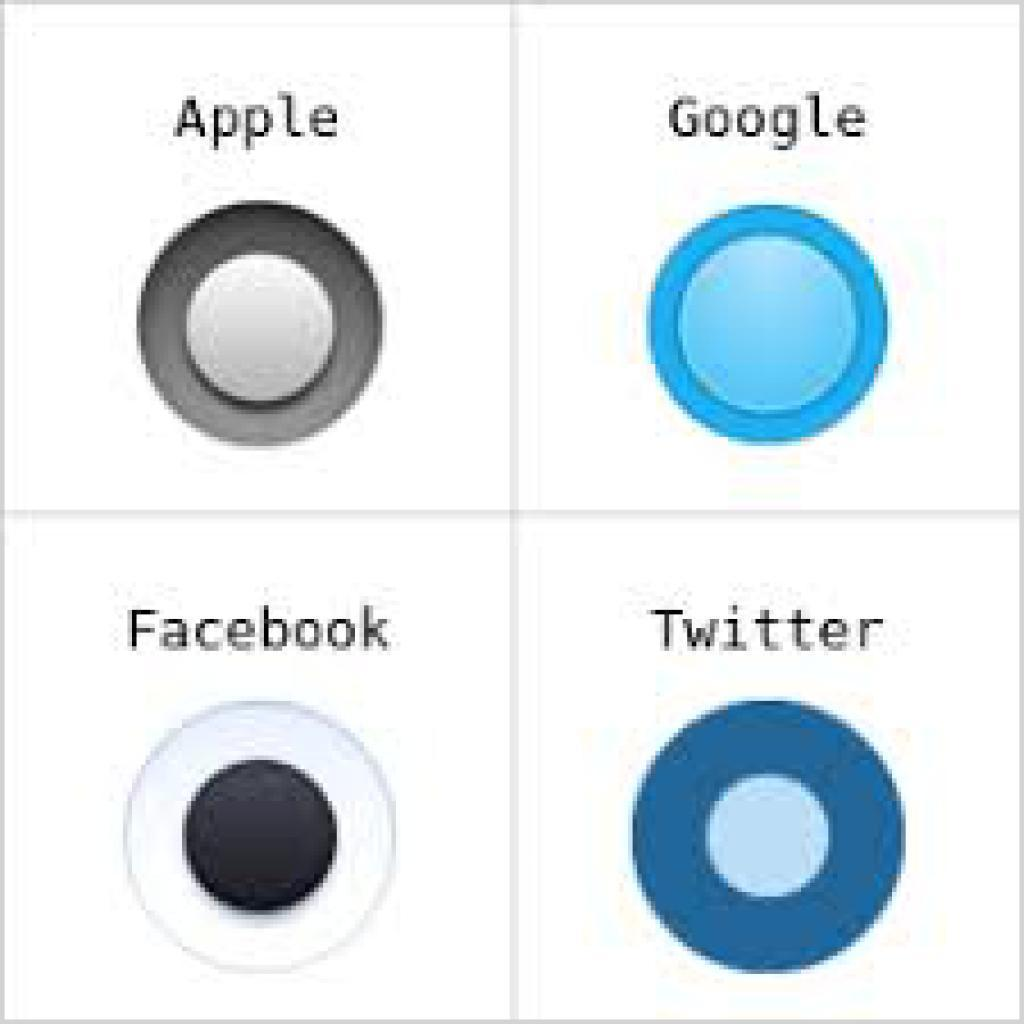radio: (623, 688, 916, 989), (119, 688, 405, 983), (126, 184, 396, 458), (646, 201, 896, 454)
